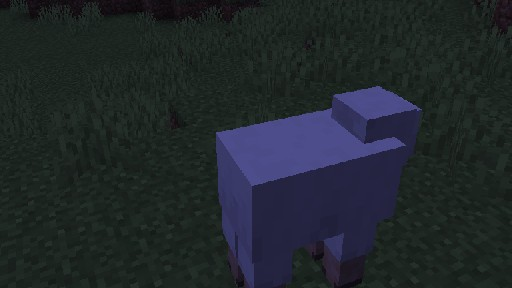sheep: (215, 85, 421, 288)
